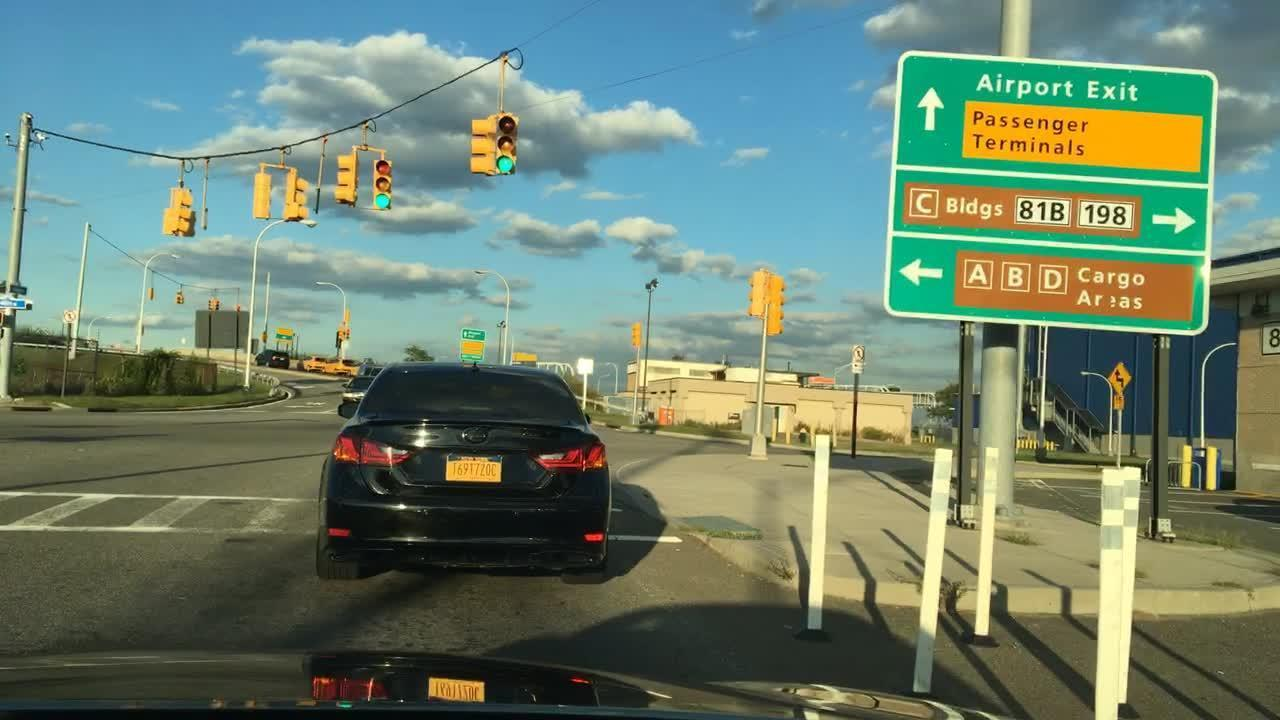lexus: (457, 422, 490, 448)
